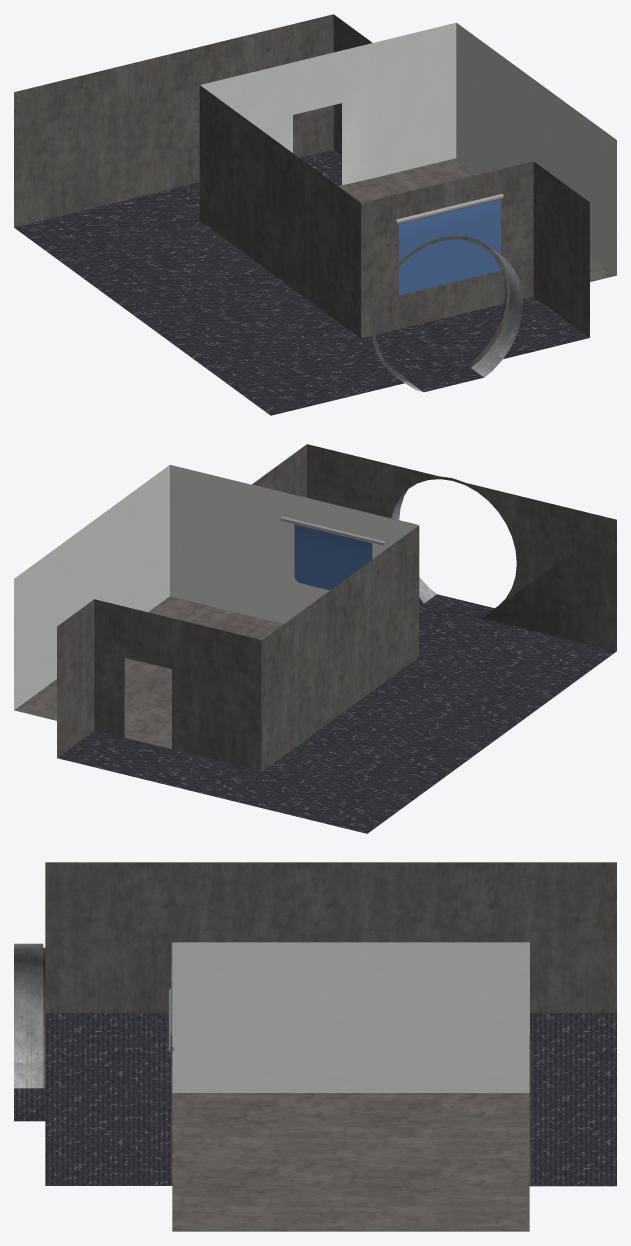
Rendered from mt_cont1_080.gltf.
The picture shows the model from 3 angles, top to bottom: view 1: azimuth 30°, elevation 25°; view 2: azimuth 150°, elevation 25°; view 3: azimuth 270°, elevation 25°; orthographic projection. The views are drawn at different scales.
Parts seen in each view (by area): view 1: Cylinder.001, Plane, Cylinder; view 2: Cylinder.001, Plane, Cylinder; view 3: Cylinder.001.
Part boxes in pixels (bbox=[...]): Cylinder.001: bbox=[14, 14, 616, 415]; Plane: bbox=[398, 199, 500, 295]; Cylinder: bbox=[395, 193, 503, 224]; Cylinder.001: bbox=[14, 444, 616, 833]; Plane: bbox=[295, 524, 372, 590]; Cylinder: bbox=[280, 516, 385, 546]; Cylinder.001: bbox=[14, 862, 616, 1231].
Size of the model in its own units: 16.46 by 5.37 by 19.16.
Materials: 7 (6 with a texture image).
